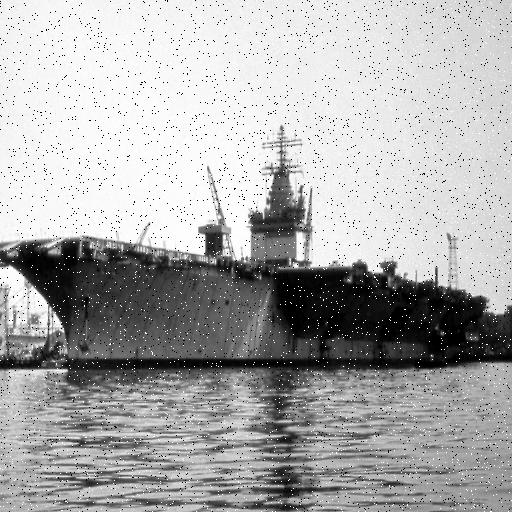Portanaves: (1, 120, 495, 373)
